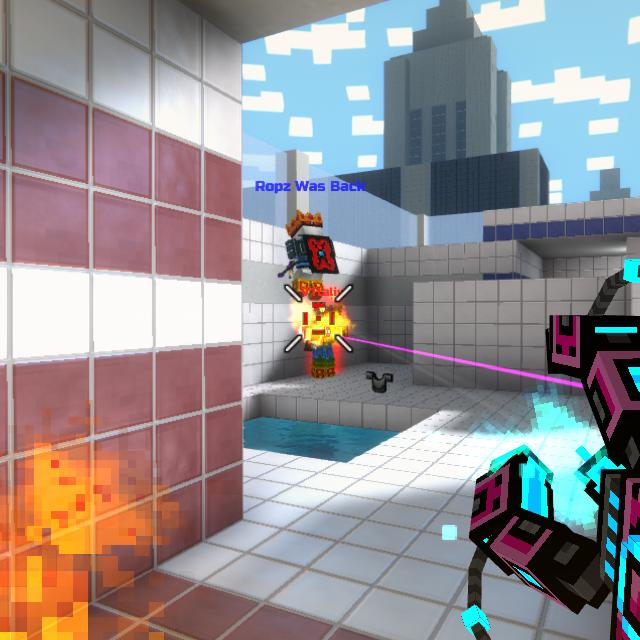Enemy: (302, 305, 345, 378)
